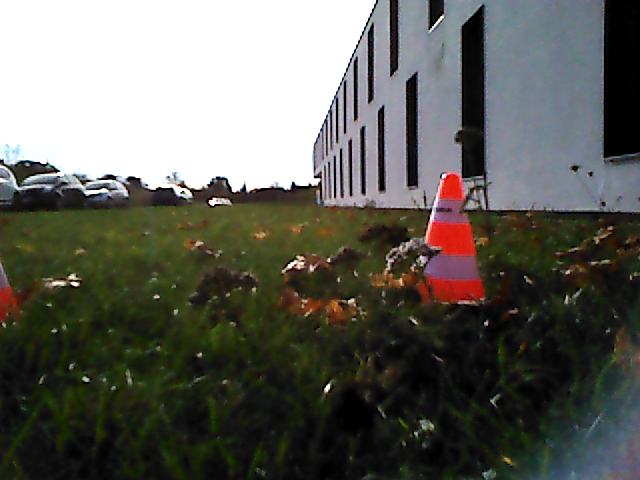orangeconesmall: (414, 173, 487, 304)
